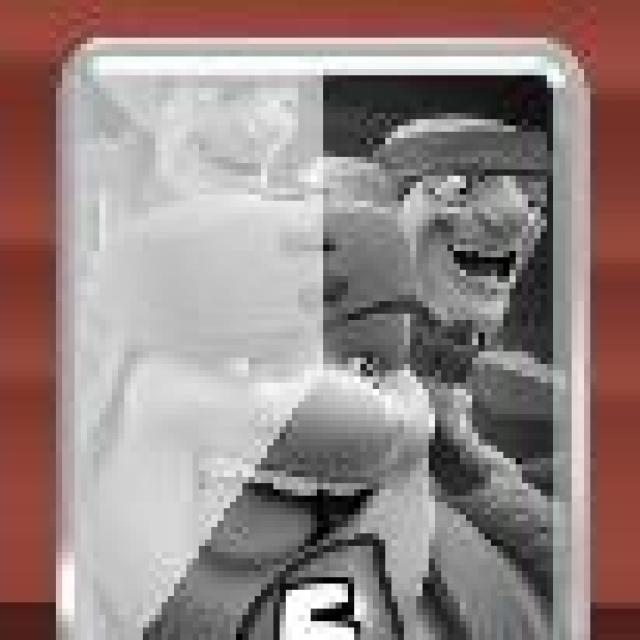Goblin_Giant: (55, 38, 588, 640)
